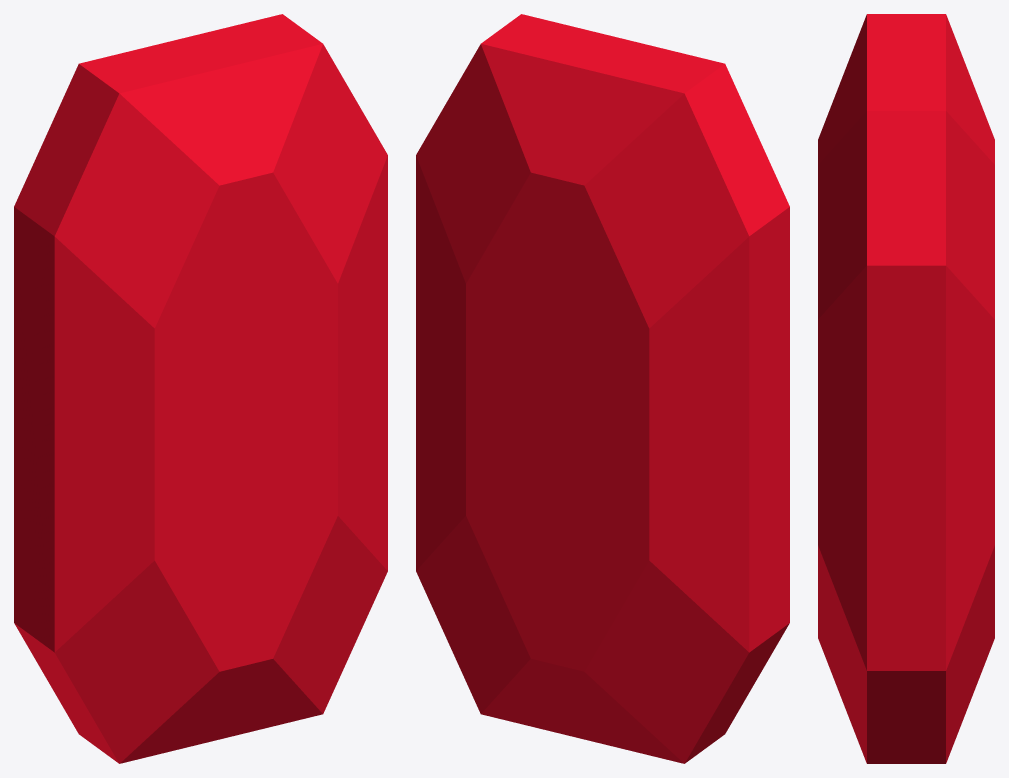
Rendered from gem2.fbx.
3 views of the same model, side by side, from view 1: azimuth 30°, elevation 25°; view 2: azimuth 150°, elevation 25°; view 3: azimuth 270°, elevation 25° (orthographic). The views are drawn at different scales.
Visible parts, largest first — view 1: Gem2; view 2: Gem2; view 3: Gem2.
Part boxes in pixels (box(x1,y1,x2,y2)): Gem2: box(14, 14, 387, 763); Gem2: box(416, 14, 789, 763); Gem2: box(818, 14, 994, 763).
Bounding box in the file's own units: 94.92 × 182 × 44.74.
